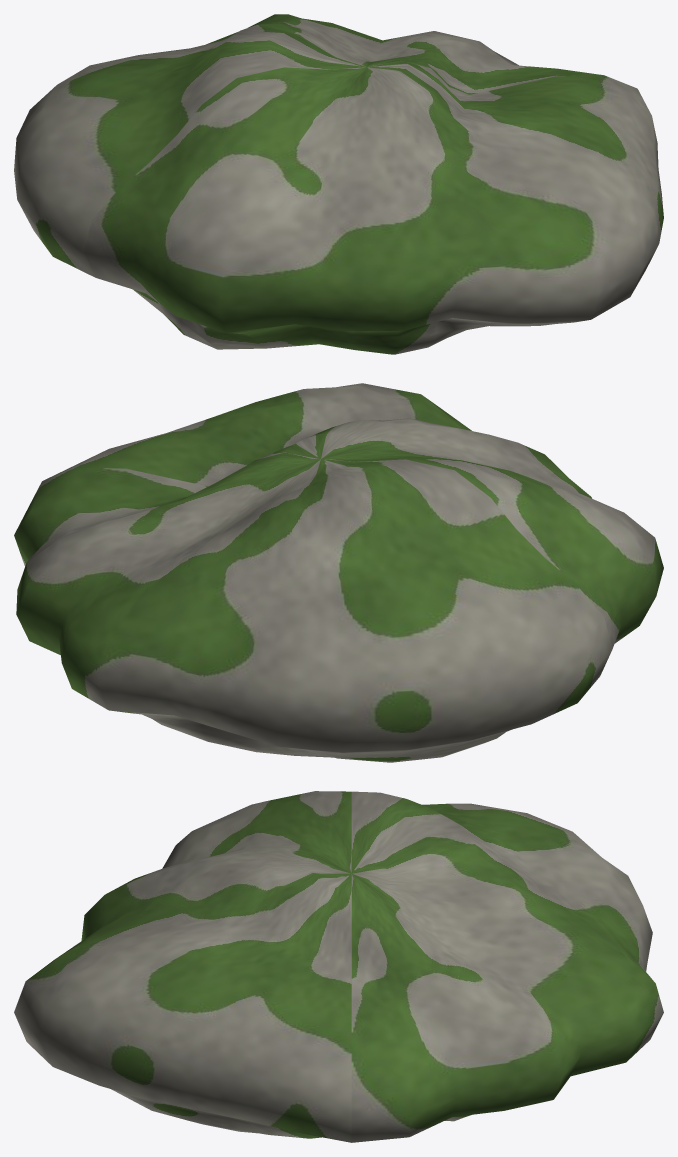
The model's file is mossy_rock.glb.
3 views of the same model, one above another, from view 1: azimuth 30°, elevation 25°; view 2: azimuth 150°, elevation 25°; view 3: azimuth 270°, elevation 25° (orthographic). The views are drawn at different scales.
Parts seen in each view (by area): view 1: Rock; view 2: Rock; view 3: Rock.
Boxes of the visible parts, x1,y1,x2,y2 form: Rock: [14, 14, 663, 354]; Rock: [14, 383, 663, 762]; Rock: [14, 791, 663, 1142].
Bounding box in the file's own units: 2.26 × 0.937 × 2.27.
Materials: 1 (1 with a texture image).
